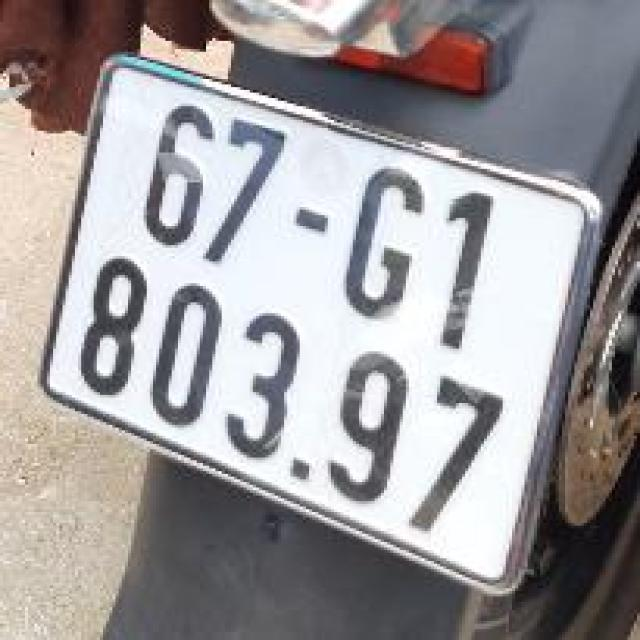0: (154, 271, 227, 434)
1: (439, 173, 504, 350)
3: (228, 297, 312, 463)
6: (139, 93, 211, 245)
7: (414, 360, 511, 548), (208, 109, 286, 275)
8: (72, 250, 153, 406)
9: (331, 339, 421, 522)
G: (337, 144, 428, 322)
